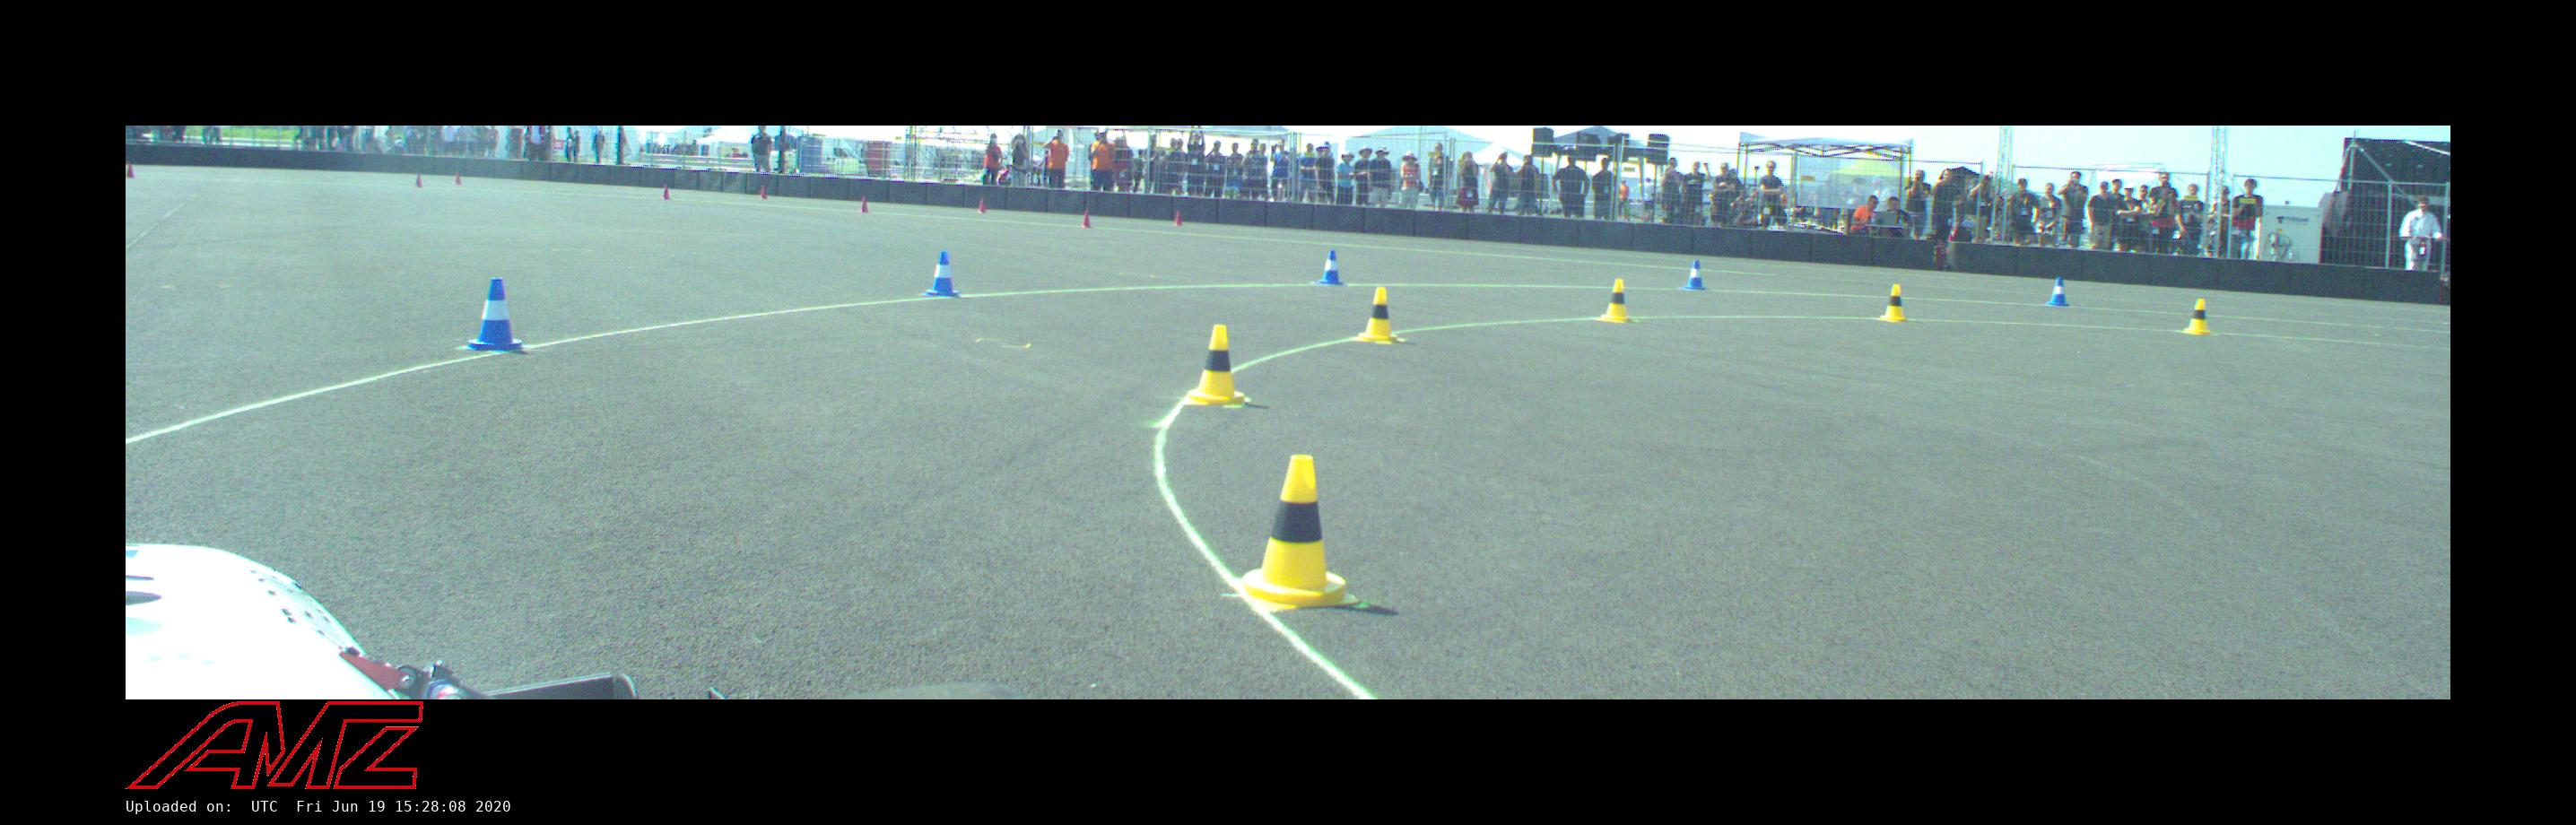blue_cone: (460, 278, 526, 352), (922, 250, 961, 297), (1316, 250, 1344, 286), (2045, 278, 2070, 306), (1684, 260, 1705, 291)
yellow_cone: (1232, 455, 1360, 610), (1181, 325, 1252, 406), (1354, 286, 1406, 343), (1597, 279, 1638, 324), (1878, 284, 1907, 322), (2183, 299, 2211, 335)
